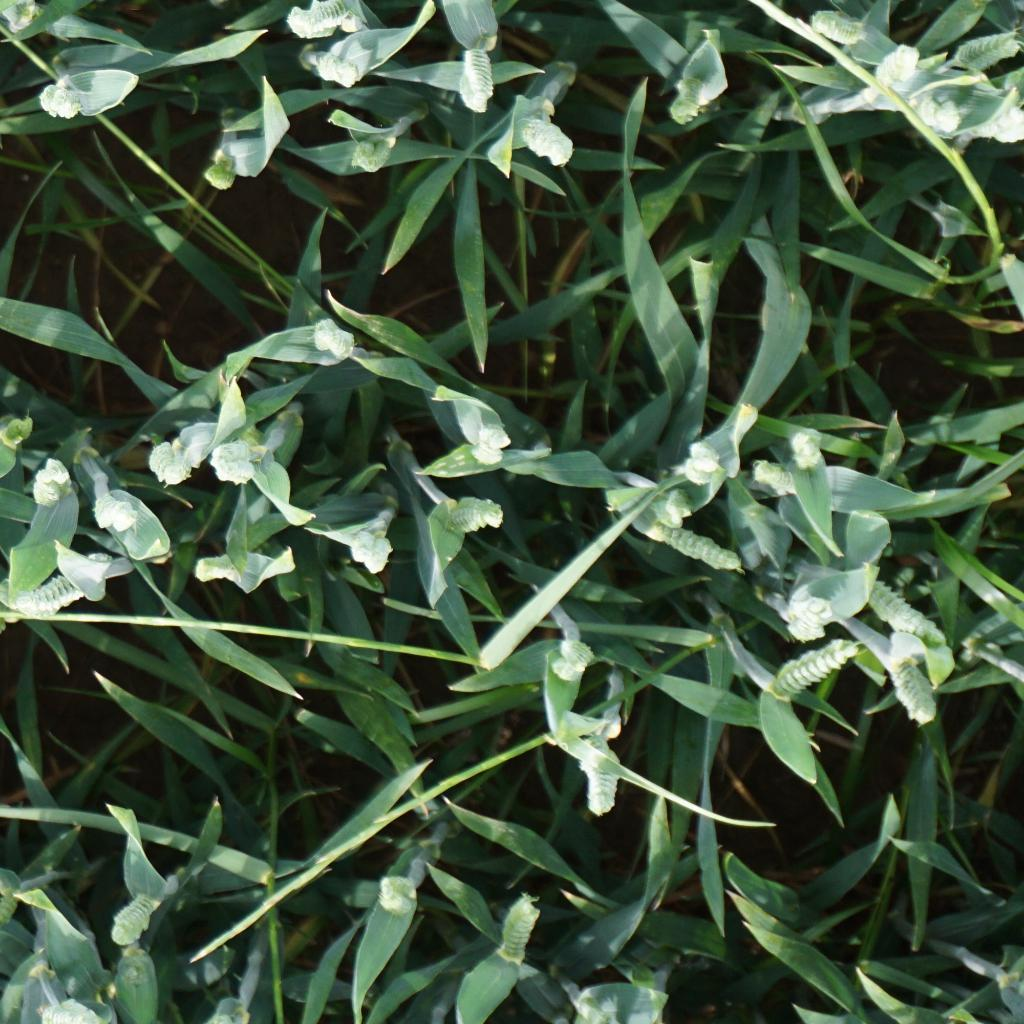0-0: (19, 552, 117, 617), (772, 632, 861, 699), (645, 520, 741, 576), (864, 581, 944, 648), (890, 652, 940, 727), (109, 880, 165, 946), (521, 108, 579, 167), (948, 27, 1024, 69), (435, 493, 508, 536), (205, 438, 268, 486), (779, 593, 839, 641), (499, 897, 545, 958), (285, 0, 353, 41), (802, 10, 876, 45), (300, 315, 358, 359), (457, 43, 492, 115), (587, 732, 617, 816), (86, 488, 143, 531), (139, 438, 190, 486), (37, 990, 108, 1024), (351, 525, 393, 578), (913, 88, 960, 135), (875, 43, 924, 88), (30, 456, 73, 506), (466, 422, 510, 468), (379, 870, 422, 916), (672, 77, 714, 124), (37, 80, 87, 119), (976, 104, 1024, 144), (754, 458, 801, 496), (203, 147, 242, 192), (312, 50, 357, 88), (555, 640, 599, 677), (352, 137, 393, 173), (791, 431, 828, 465), (1, 0, 41, 30), (683, 448, 715, 477)
